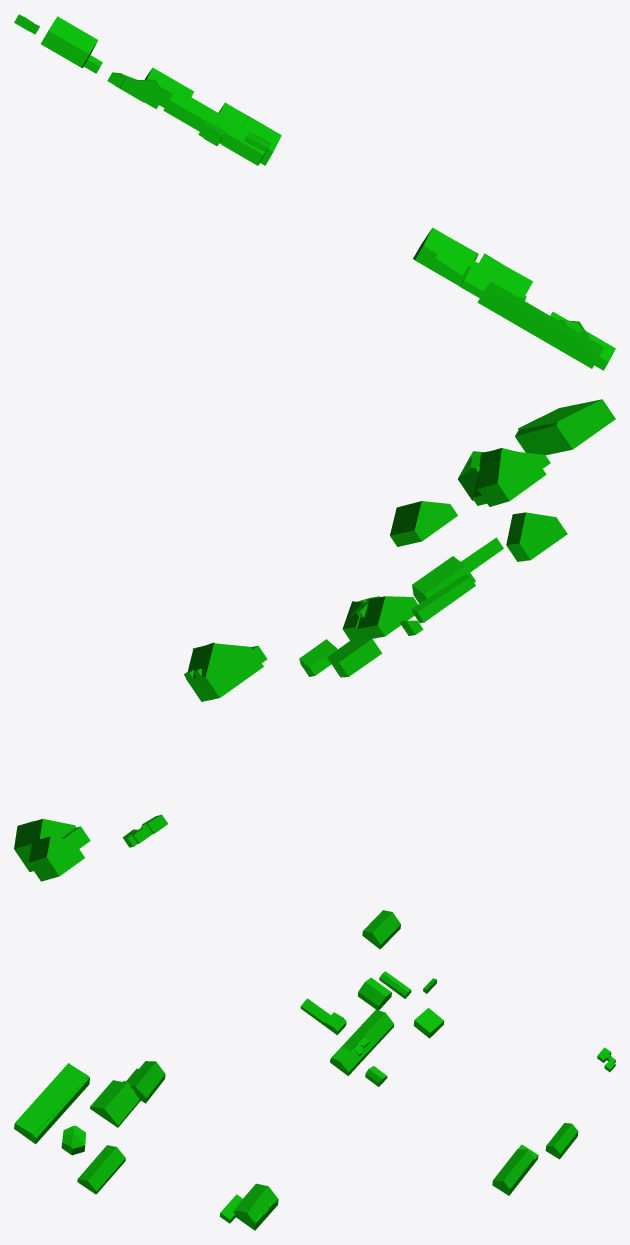
The picture shows the model from 3 angles, top to bottom: view 1: azimuth 30°, elevation 25°; view 2: azimuth 150°, elevation 25°; view 3: azimuth 270°, elevation 25°; orthographic projection. The views are drawn at different scales.
Visible parts, largest first — view 1: mesh; view 2: mesh; view 3: mesh.
Boxes of the visible parts, left/top/right/bottom form: mesh: left=14, top=14, right=615, bottom=370; mesh: left=14, top=399, right=615, bottom=881; mesh: left=14, top=910, right=615, bottom=1230.
Size of the model in its own units: 102 by 77.13 by 206.
